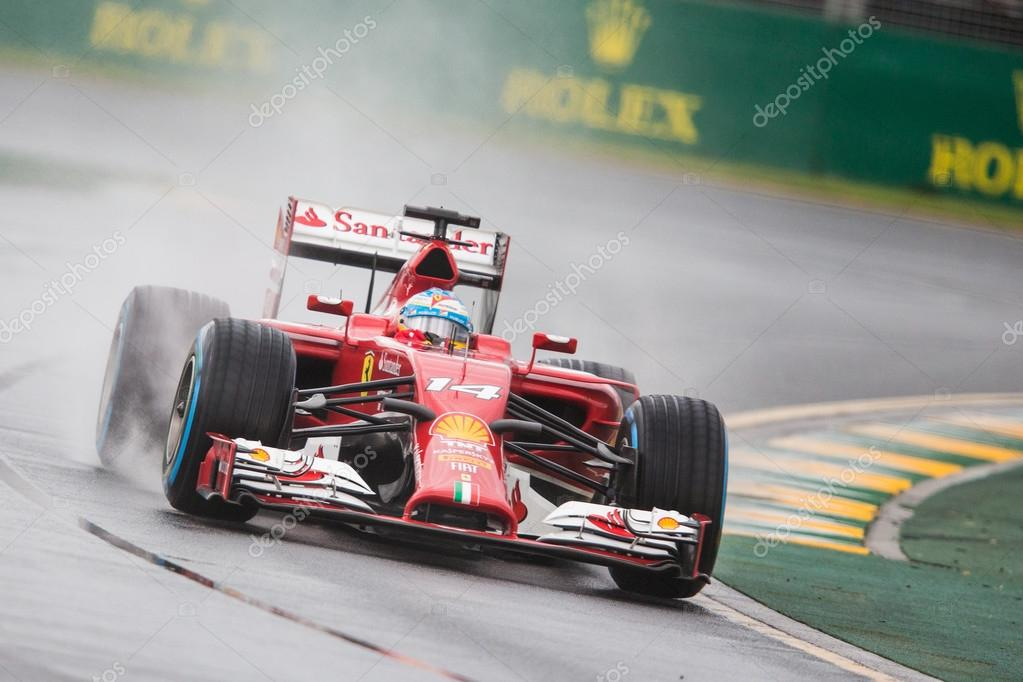Formule 1: (99, 193, 726, 600)
